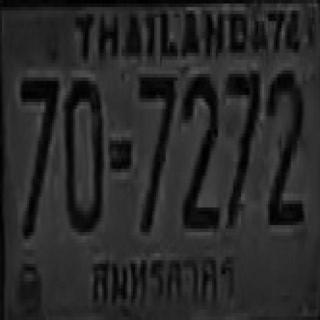N00: (61, 59, 109, 256)
N02: (262, 50, 310, 249), (178, 57, 222, 240)
N07: (10, 55, 60, 245), (132, 61, 174, 235), (225, 52, 261, 234)
P58: (73, 247, 250, 317)
